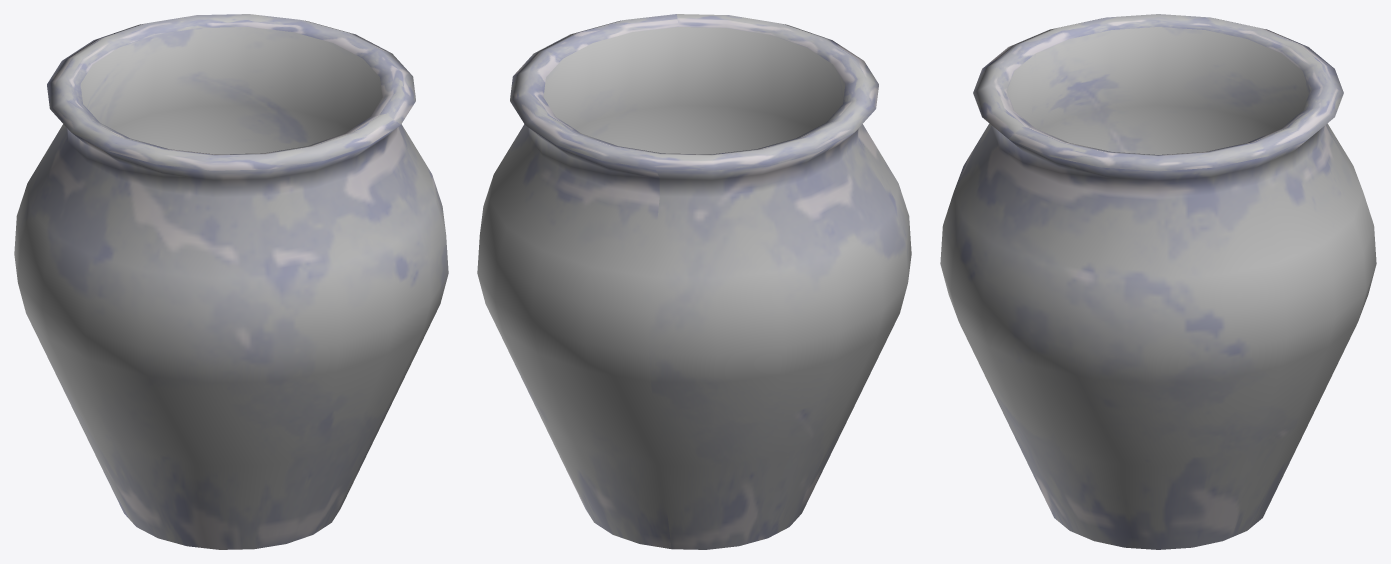
File: Vase_1.fbx
The picture shows the model from 3 angles, left to right: view 1: azimuth 30°, elevation 25°; view 2: azimuth 150°, elevation 25°; view 3: azimuth 270°, elevation 25°; orthographic projection.
Visible parts, largest first — view 1: Vase_1; view 2: Vase_1; view 3: Vase_1.
Boxes of the visible parts, bbox=[...] form: Vase_1: bbox=[14, 14, 448, 549]; Vase_1: bbox=[477, 14, 911, 549]; Vase_1: bbox=[940, 14, 1376, 549].
Bounding box in the file's own units: 66.74 × 70.64 × 66.74.
